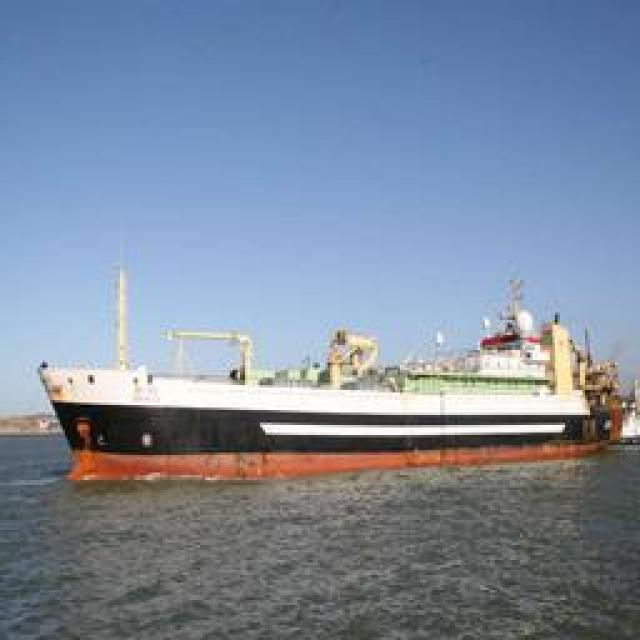CIV_Ship: (42, 268, 618, 472)
